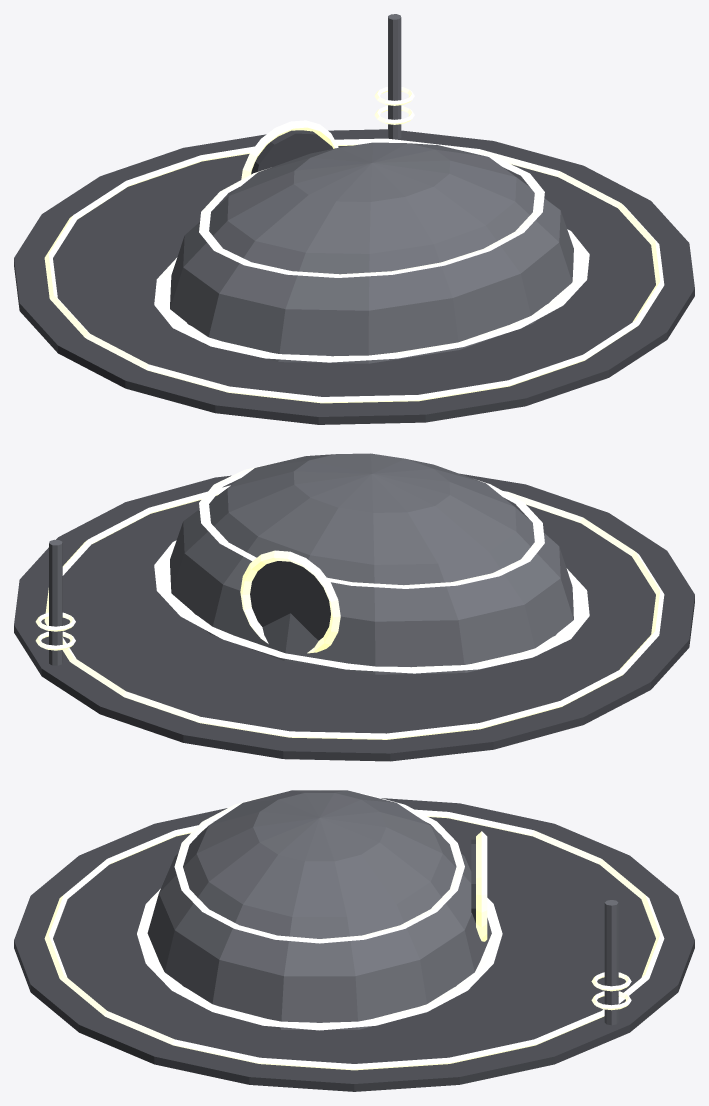
File: zone_low_1_t2.glb
3 views of the same model, one above another, from view 1: azimuth 30°, elevation 25°; view 2: azimuth 150°, elevation 25°; view 3: azimuth 270°, elevation 25° (orthographic).
Visible parts, largest first — view 1: zone_low_1_t2, detail; view 2: zone_low_1_t2, detail; view 3: zone_low_1_t2, detail.
Part boxes in pixels (x1,y1,x2,y2): zone_low_1_t2: (14, 120, 694, 424); detail: (44, 14, 664, 403); zone_low_1_t2: (14, 453, 694, 761); detail: (35, 462, 664, 739); zone_low_1_t2: (14, 790, 694, 1091); detail: (44, 790, 664, 1070).
Size of the model in its own units: 19.6 by 4.13 by 19.6.
